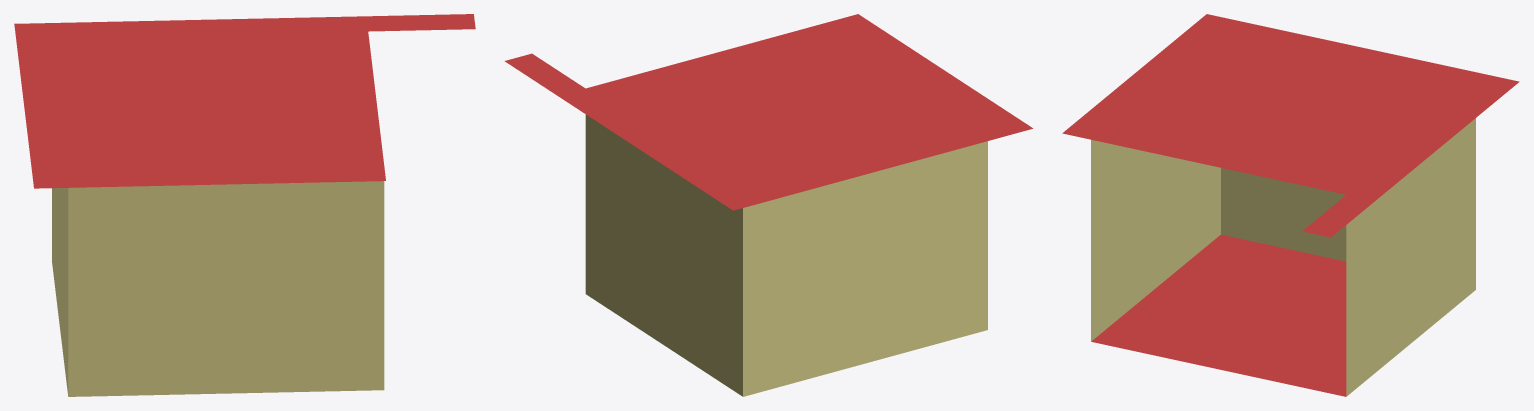
3 views of the same model, side by side, from view 1: azimuth 30°, elevation 25°; view 2: azimuth 150°, elevation 25°; view 3: azimuth 270°, elevation 25° (orthographic). The views are drawn at different scales.
Size of the model in its own units: 12.22 by 10.57 by 5.15.
